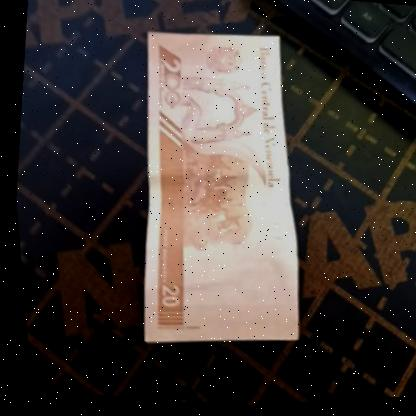vef_back: (101, 18, 331, 367)
